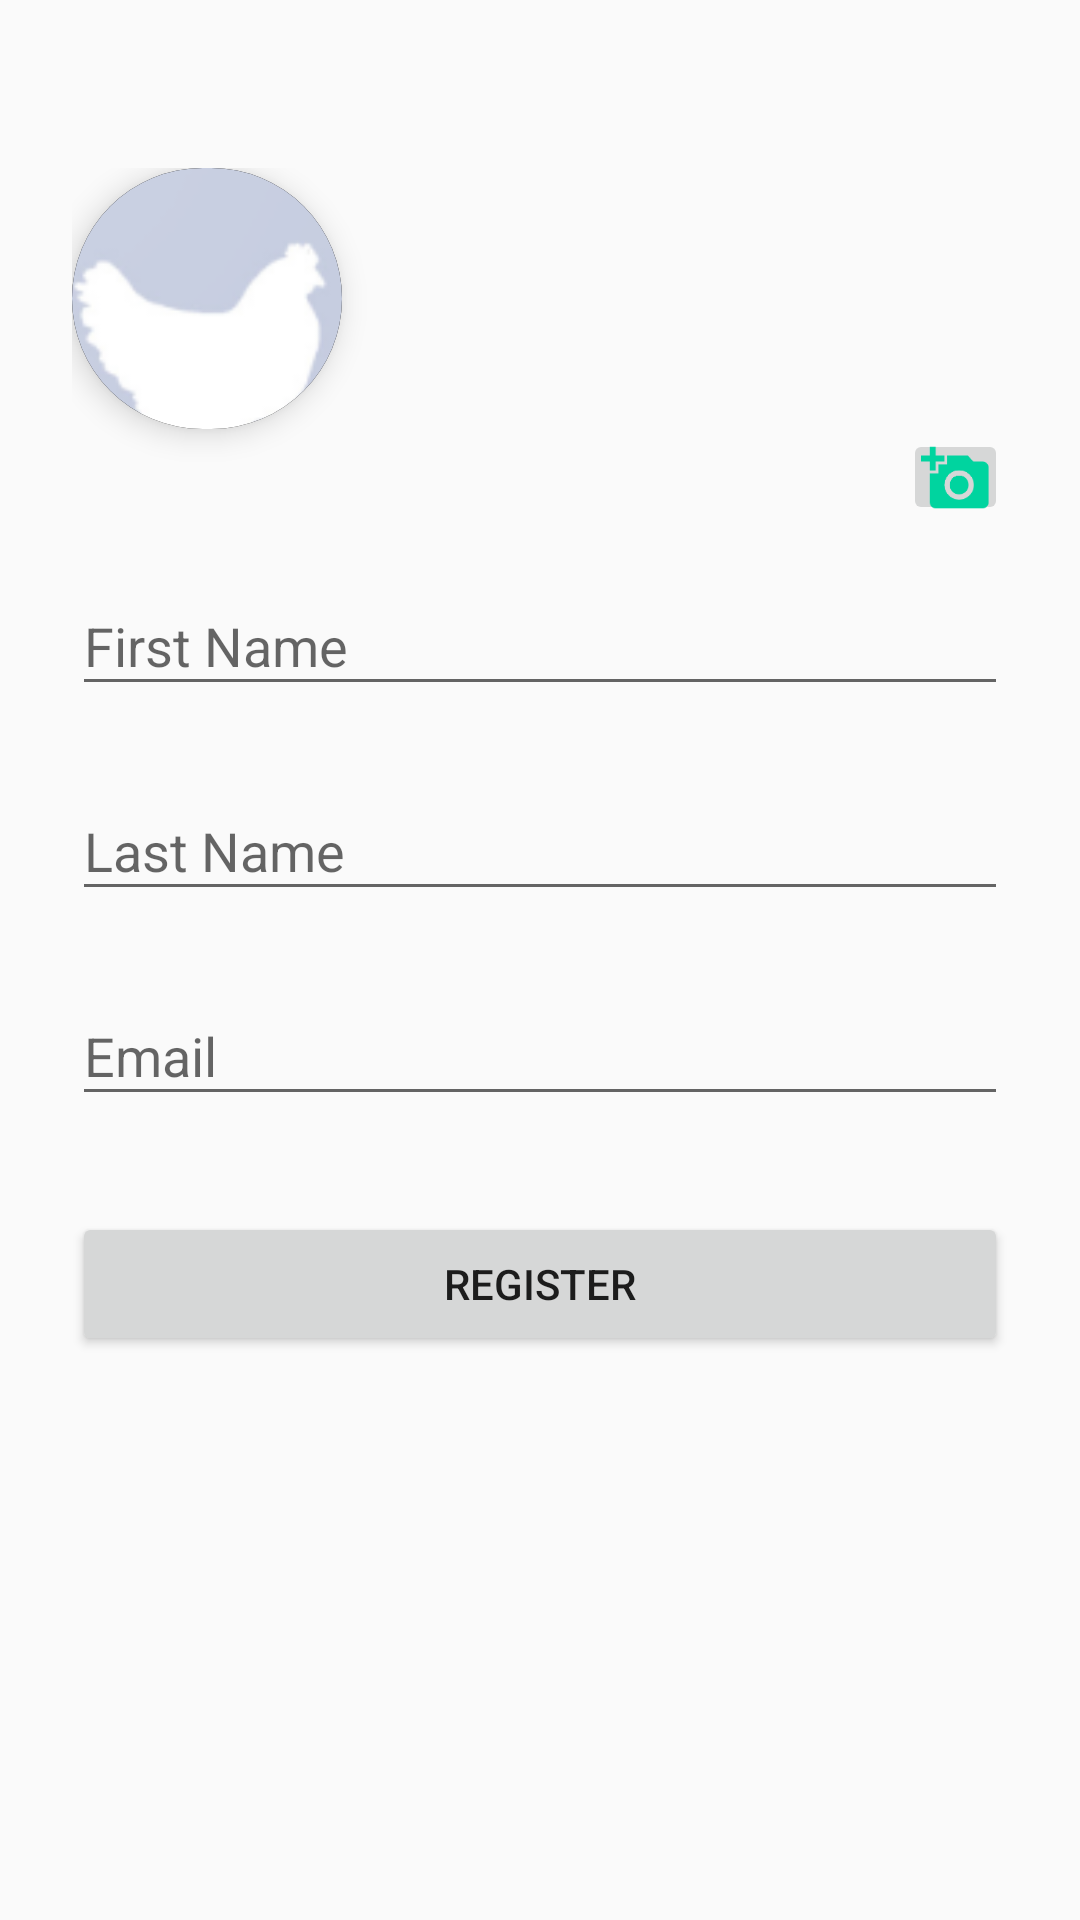

Icon click points for this 1080px x 1920px phone screenshot, format (x=x, y=y):
add photo: (x=955, y=477)
